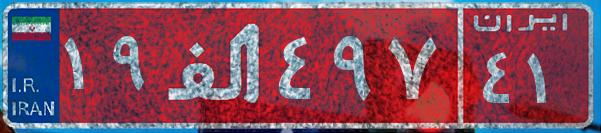1: (57, 26, 110, 107), (525, 38, 570, 115)
4: (273, 28, 330, 110), (475, 38, 525, 113)
7: (385, 28, 445, 110)
9: (330, 28, 385, 110), (110, 28, 158, 105)
الف: (158, 15, 273, 115)
